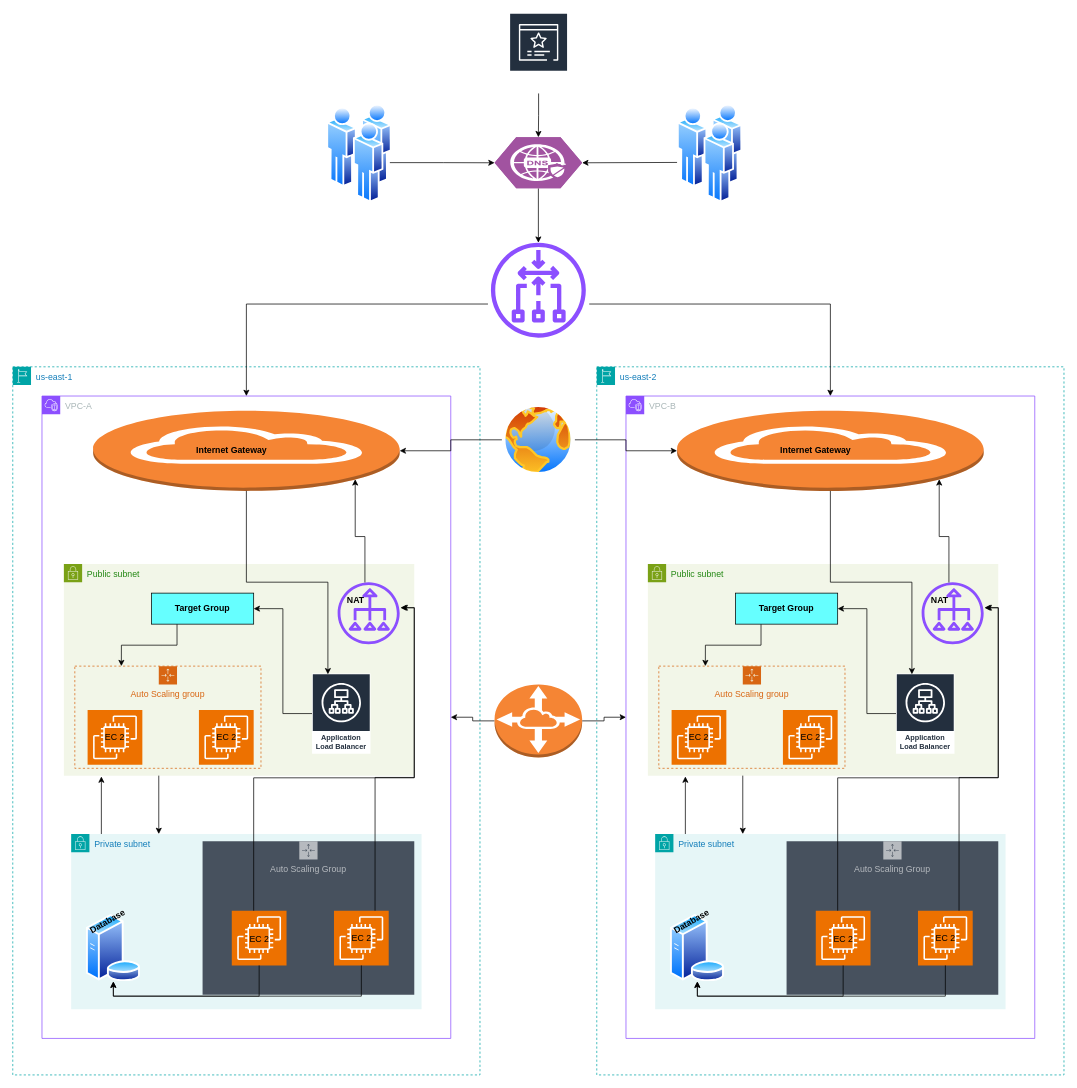
Image size: 1077x1088. Some labels were removed from this diagram. Each missing label, with the centre of its shape:
AWS Certificate Manager: (x=538, y=52)
Global Load balancer: (x=538, y=289)
Internet: (x=538, y=439)
VPC Peering: (x=538, y=720)
